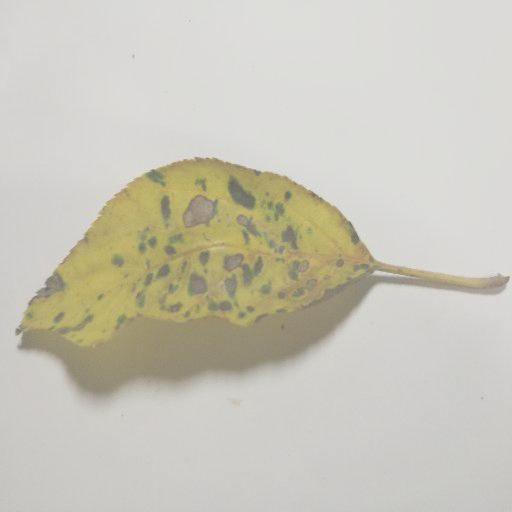Brown_Spot: (279, 257, 315, 309), (179, 197, 219, 226), (26, 274, 64, 301), (235, 215, 264, 243), (228, 279, 251, 314), (245, 255, 264, 288), (187, 272, 208, 300), (219, 253, 240, 277)
